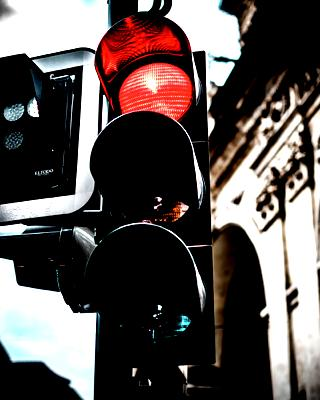International Road Signal Light: (77, 15, 208, 390)
